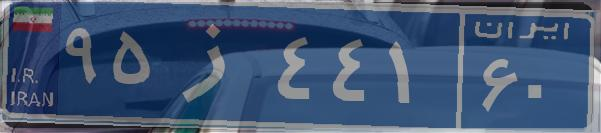0: (525, 38, 570, 115)
1: (385, 28, 445, 110)
4: (273, 28, 330, 110), (330, 28, 385, 110)
5: (110, 28, 158, 105)
6: (475, 38, 525, 113)
9: (57, 26, 110, 107)
ز: (158, 15, 273, 115)
